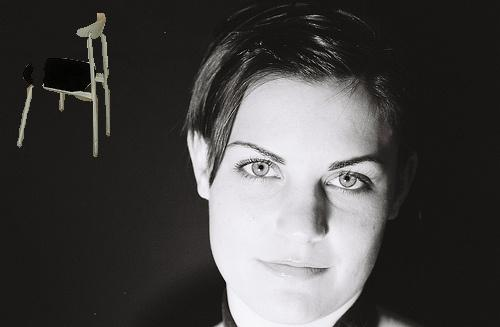tampered: (18, 14, 110, 157)
